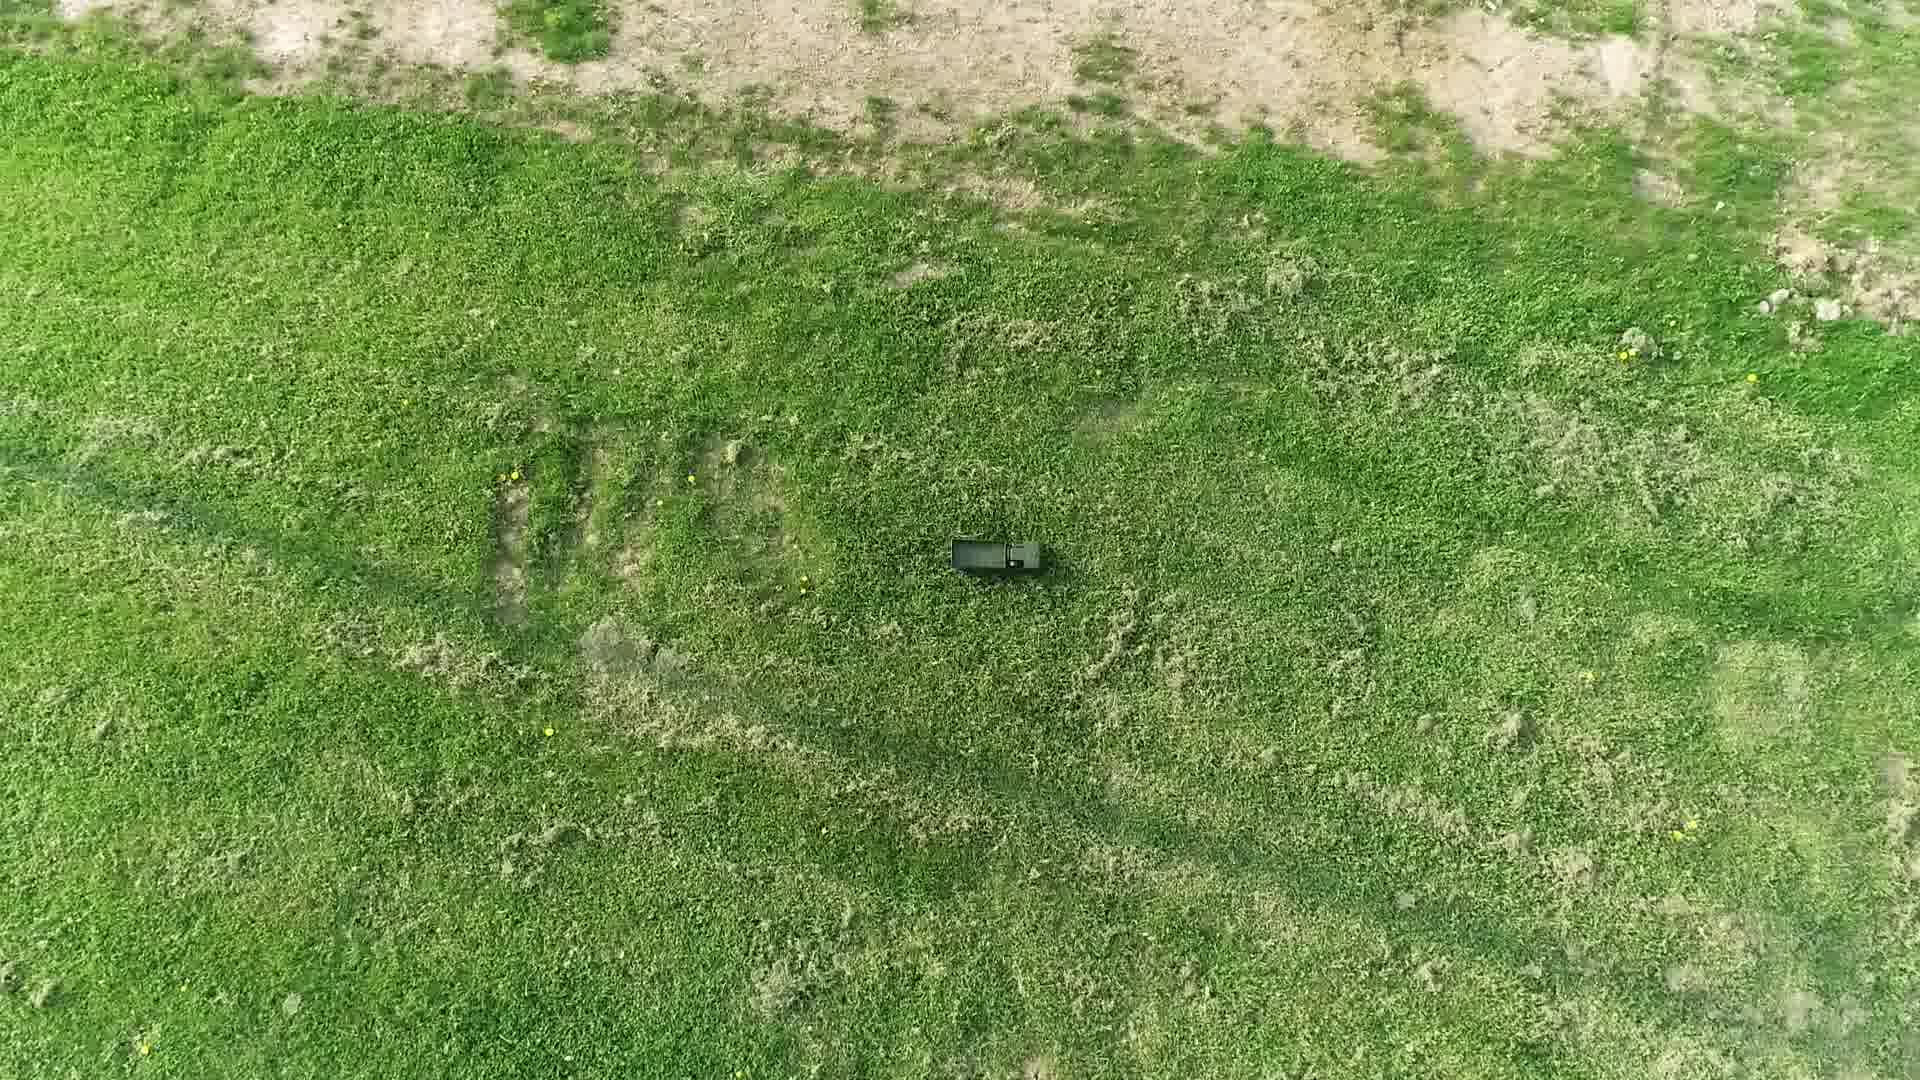transporter9: (943, 531, 1054, 583)
